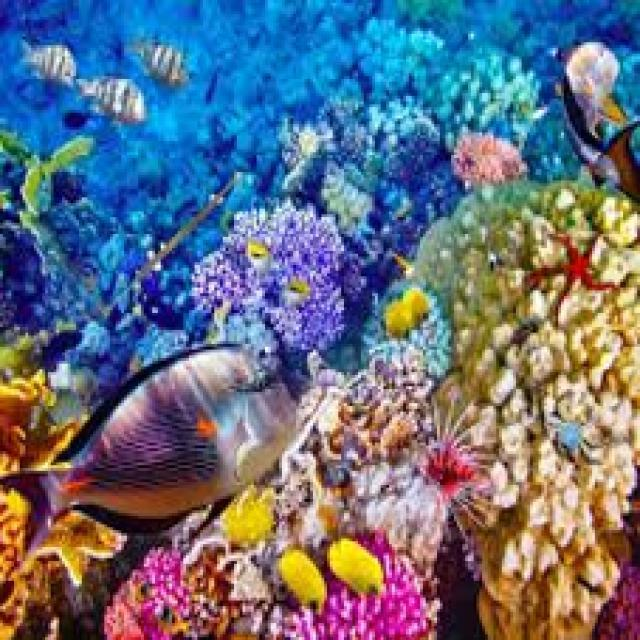Healthy: (444, 198, 639, 640), (200, 208, 352, 344), (1, 536, 119, 640), (363, 280, 450, 369), (3, 350, 65, 468), (288, 593, 434, 640), (116, 552, 191, 639), (447, 135, 532, 189), (604, 562, 640, 640), (386, 290, 429, 349)
